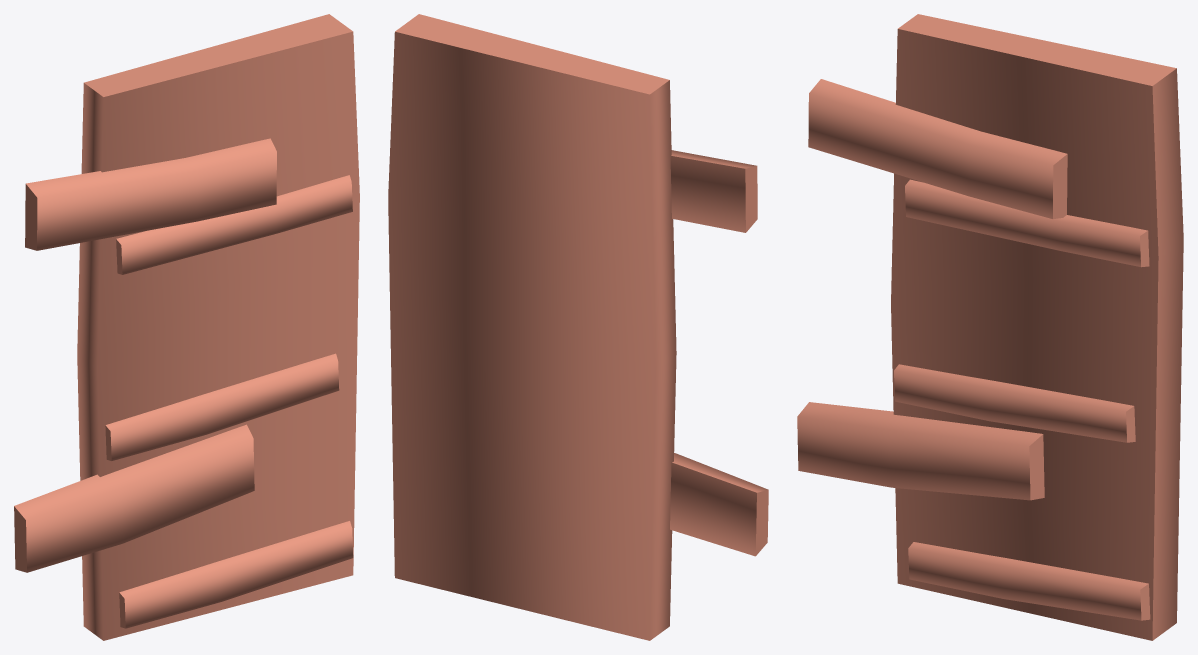
File: shutter_05.fbx
3 views of the same model, side by side, from view 1: azimuth 30°, elevation 25°; view 2: azimuth 150°, elevation 25°; view 3: azimuth 330°, elevation 25° (orthographic). The views are drawn at different scales.
Visible parts, largest first — view 1: Cube.190; view 2: Cube.190; view 3: Cube.190.
Boxes of the visible parts, x1,y1,x2,y2 form: Cube.190: (14,14,359,640); Cube.190: (388,14,768,640); Cube.190: (797,14,1183,640).
Size of the model in its own units: 0.6727 by 1.02 by 0.1256.
